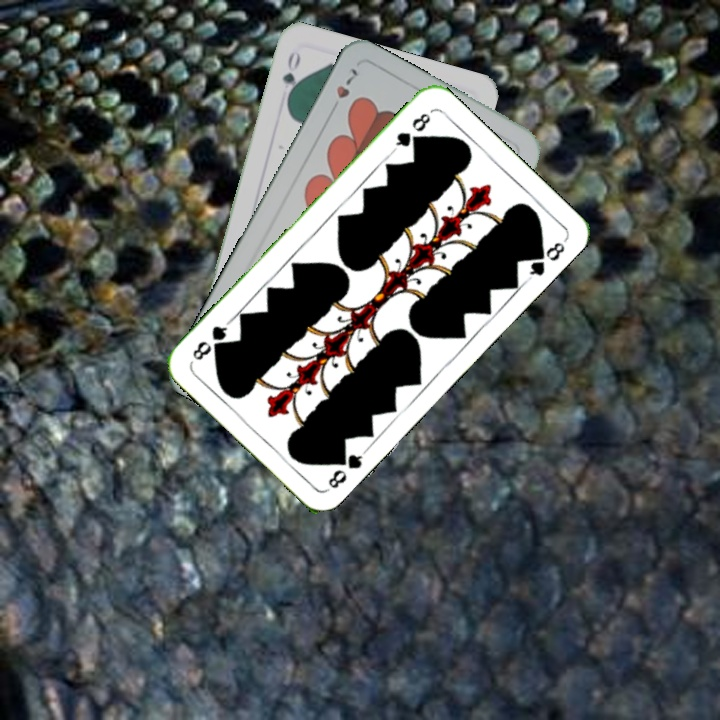G8: (324, 446, 369, 493), (389, 109, 433, 154)
GO: (278, 47, 304, 105)
H7: (325, 64, 360, 116)
